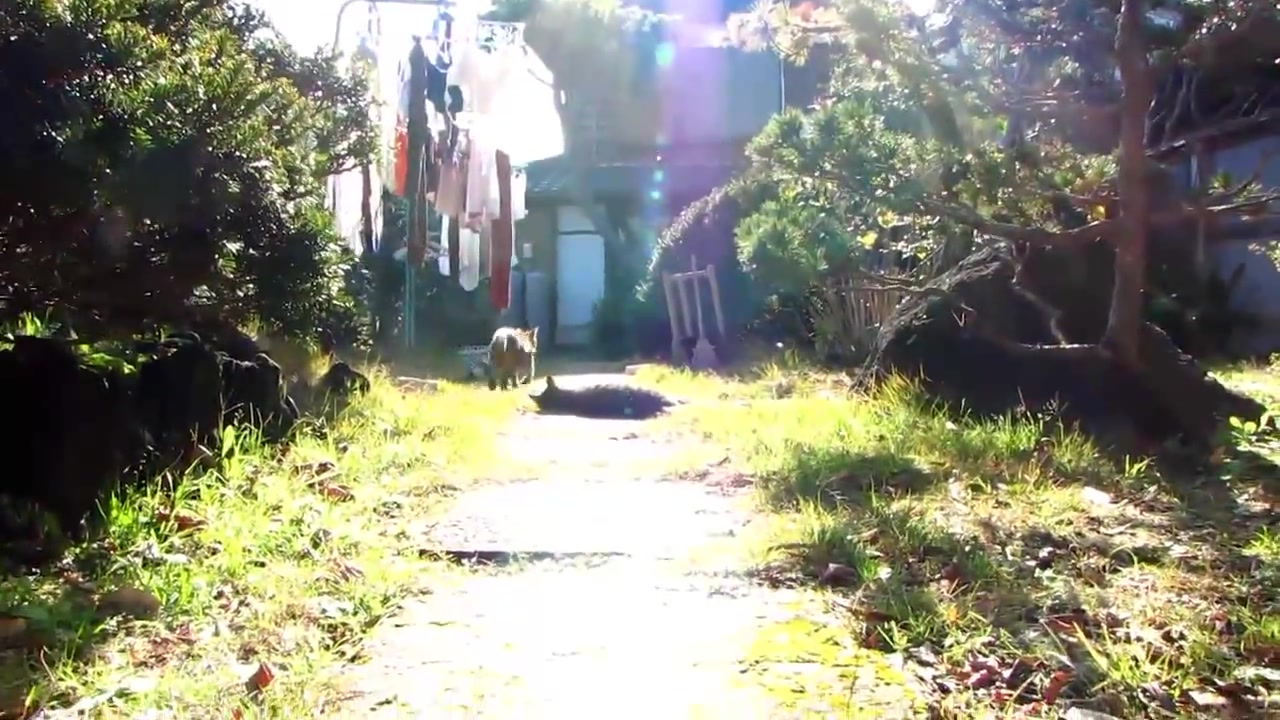cat: (529, 377, 681, 419), (490, 323, 538, 392)
